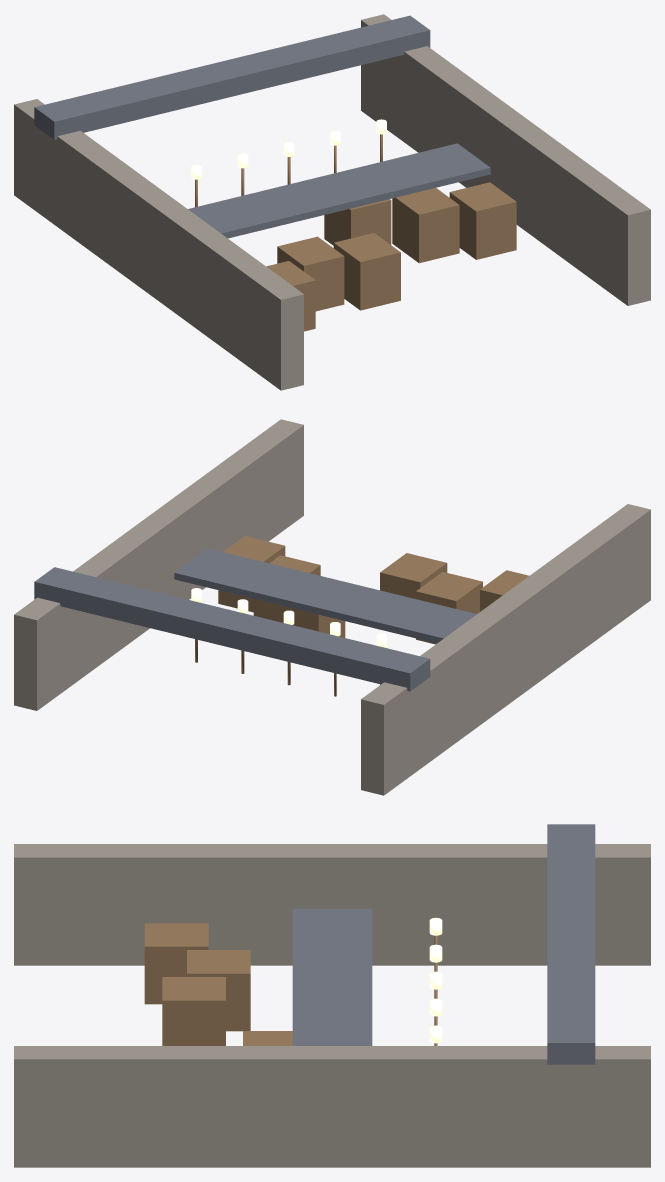
File: m3d_town.glb
The picture shows the model from 3 angles, top to bottom: view 1: azimuth 30°, elevation 25°; view 2: azimuth 150°, elevation 25°; view 3: azimuth 270°, elevation 25°; orthographic projection. The views are drawn at different scales.
Visible parts, largest first — view 1: wall_l, wall_r, gate_top, house_4, house_5, house_2, house_1, house_3, roof_4, roof_1, roof_3, roof_5 (+3 smaller); view 2: wall_l, wall_r, gate_top, roof_4, house_2, house_1, roof_1, roof_5, roof_3, roof_2, house_5, roof_0 (+3 smaller); view 3: wall_r, wall_l, gate_top, house_2, house_0, house_1, roof_0, roof_4, roof_2, roof_3, roof_1, house_4.
Part boxes in pixels (x1,y1,x2,y2): wall_l: (14, 99, 303, 390); wall_r: (361, 14, 650, 305); gate_top: (34, 15, 430, 139); house_4: (392, 188, 459, 263); house_5: (449, 182, 516, 259); house_2: (333, 233, 400, 310); house_1: (277, 236, 344, 311); house_3: (324, 199, 391, 245); roof_4: (359, 154, 444, 197); roof_1: (226, 190, 305, 230); roof_3: (319, 167, 397, 209); roof_5: (411, 143, 490, 185); wall_l: (361, 504, 650, 795); wall_r: (14, 419, 303, 710); gate_top: (34, 567, 430, 691); roof_4: (220, 559, 305, 602); house_2: (380, 553, 447, 598); house_1: (416, 572, 482, 644); roof_1: (359, 595, 438, 635); roof_5: (174, 548, 253, 590); roof_3: (267, 572, 345, 614); roof_2: (318, 582, 397, 624); house_5: (218, 536, 285, 612); roof_0: (405, 605, 476, 643); wall_r: (14, 1046, 650, 1167); wall_l: (14, 844, 650, 965); gate_top: (547, 824, 595, 1064); house_2: (162, 977, 225, 1045); house_0: (144, 923, 208, 1004); house_1: (187, 950, 250, 1031); roof_0: (292, 908, 372, 938); roof_4: (292, 1016, 372, 1045); roof_2: (292, 962, 372, 992); roof_3: (292, 989, 372, 1019); roof_1: (292, 939, 372, 965); house_4: (243, 1031, 292, 1045).
Size of what is drawn, in the model's own units: 26 by 7 by 32.
